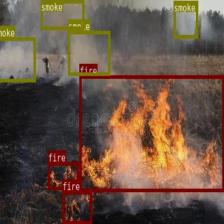fire: (79, 75, 224, 191), (62, 190, 92, 224), (48, 162, 78, 189)
smoke: (68, 30, 110, 75), (0, 36, 35, 82), (40, 0, 84, 29), (173, 0, 198, 38)
